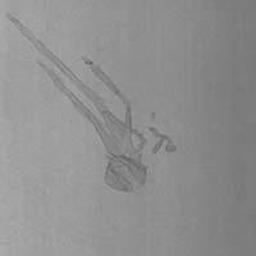Water spot: (4, 13, 148, 192), (147, 127, 177, 155)
